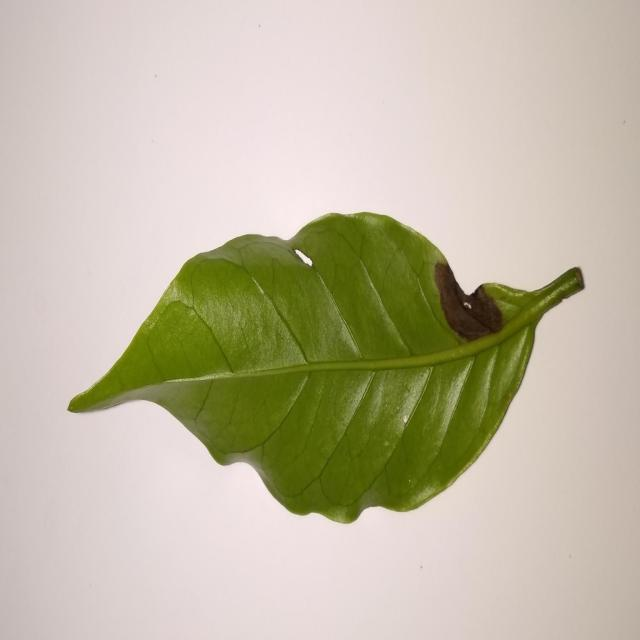Enfermedad-Antracnosis: (67, 213, 585, 528)
